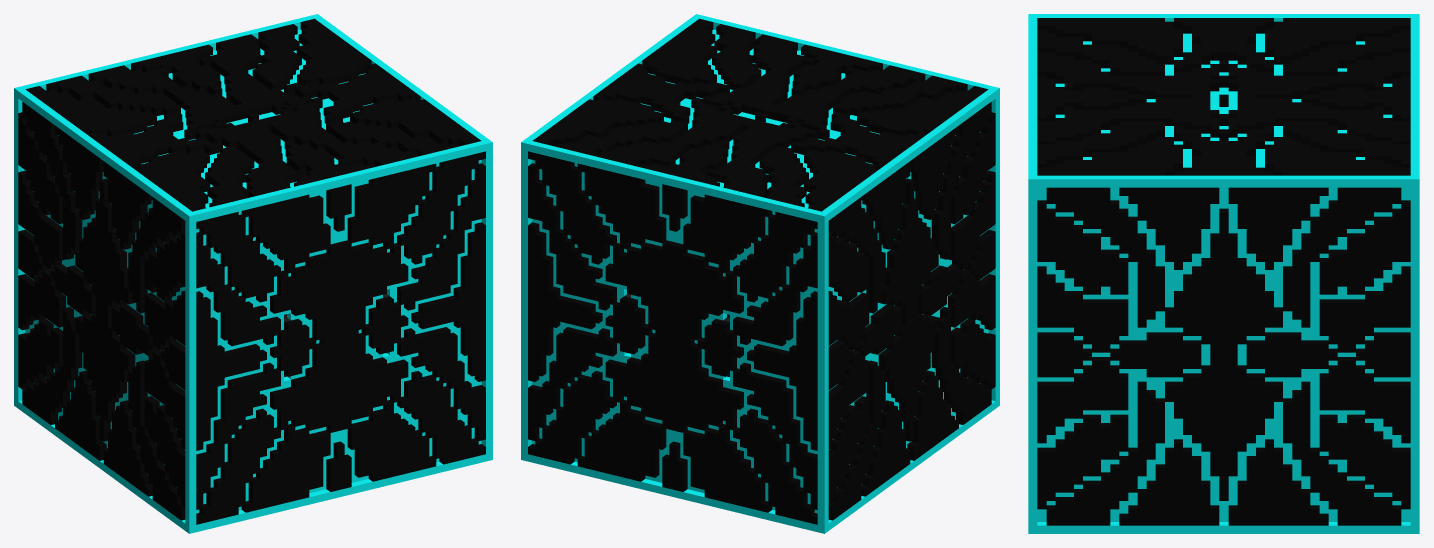
The model's file is SquareHull.FBX.
3 renders of one model, left to right at view 1: azimuth 30°, elevation 25°; view 2: azimuth 150°, elevation 25°; view 3: azimuth 270°, elevation 25°, orthographic. The views are drawn at different scales.
Parts seen in each view (by area): view 1: default; view 2: default; view 3: default.
Part boxes in pixels (bbox=[...]): default: bbox=[14, 14, 492, 533]; default: bbox=[521, 14, 999, 533]; default: bbox=[1028, 14, 1419, 533].
Size of the model in its own units: 43 by 43 by 43.
